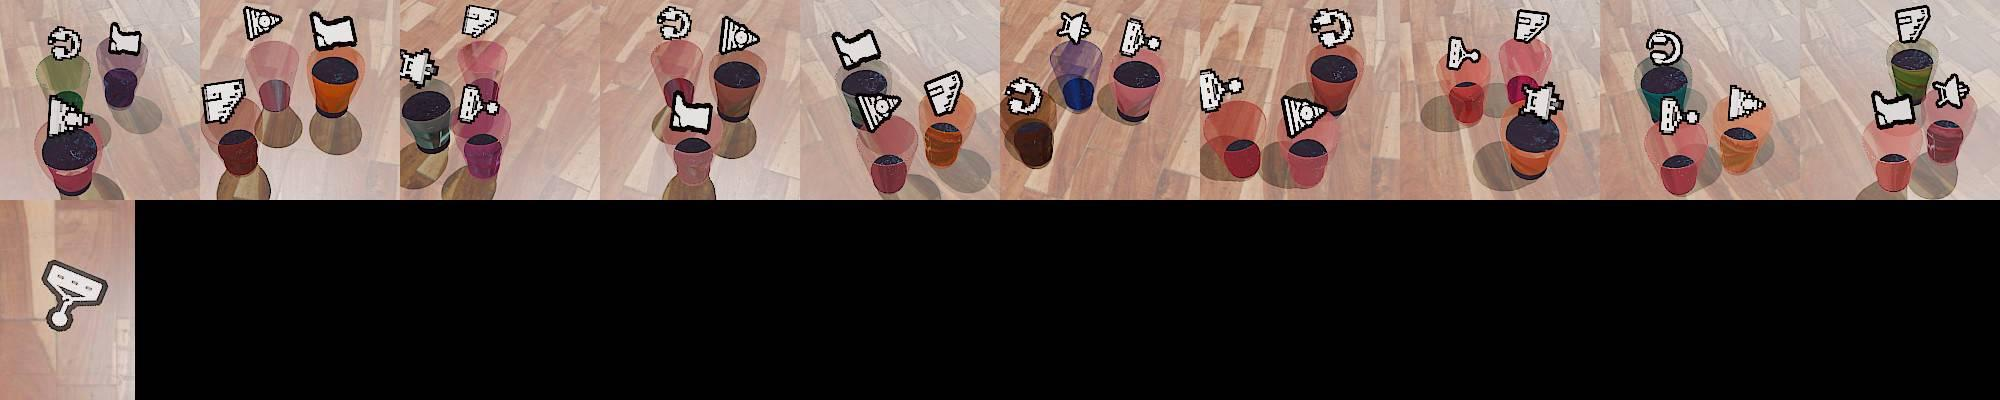icon: (38, 257, 112, 335), (47, 93, 94, 139), (201, 77, 247, 124), (831, 27, 881, 69), (1198, 68, 1243, 113), (1282, 94, 1328, 138), (854, 91, 902, 133), (1519, 79, 1563, 124), (310, 11, 358, 52), (923, 70, 963, 118), (1309, 7, 1353, 50), (668, 92, 713, 133), (1871, 89, 1918, 128), (1118, 16, 1161, 58), (1659, 93, 1701, 135), (718, 15, 761, 56), (398, 47, 438, 88), (1003, 76, 1042, 117), (457, 82, 495, 124), (1727, 84, 1765, 122), (656, 4, 694, 42), (1934, 72, 1973, 109), (1646, 27, 1682, 67), (1895, 5, 1931, 44), (243, 6, 283, 41), (461, 4, 500, 39), (1057, 10, 1093, 47), (1446, 36, 1482, 72), (107, 21, 143, 56), (48, 25, 82, 62), (1515, 8, 1550, 42)
